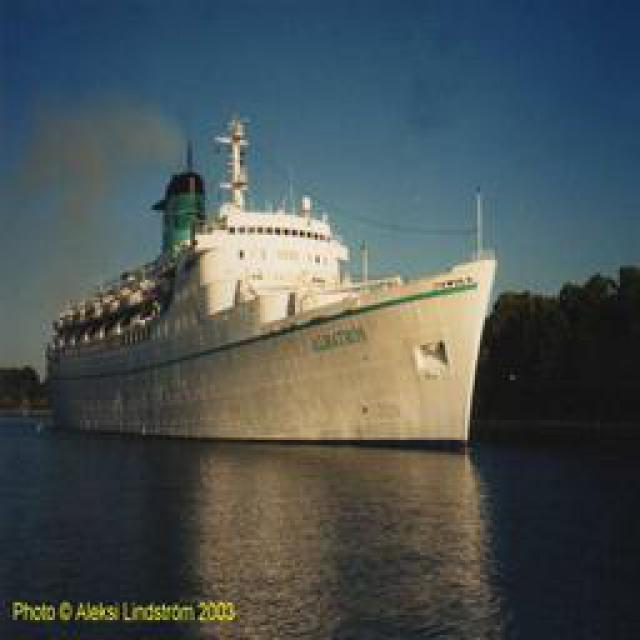Ship: (40, 128, 500, 436)
